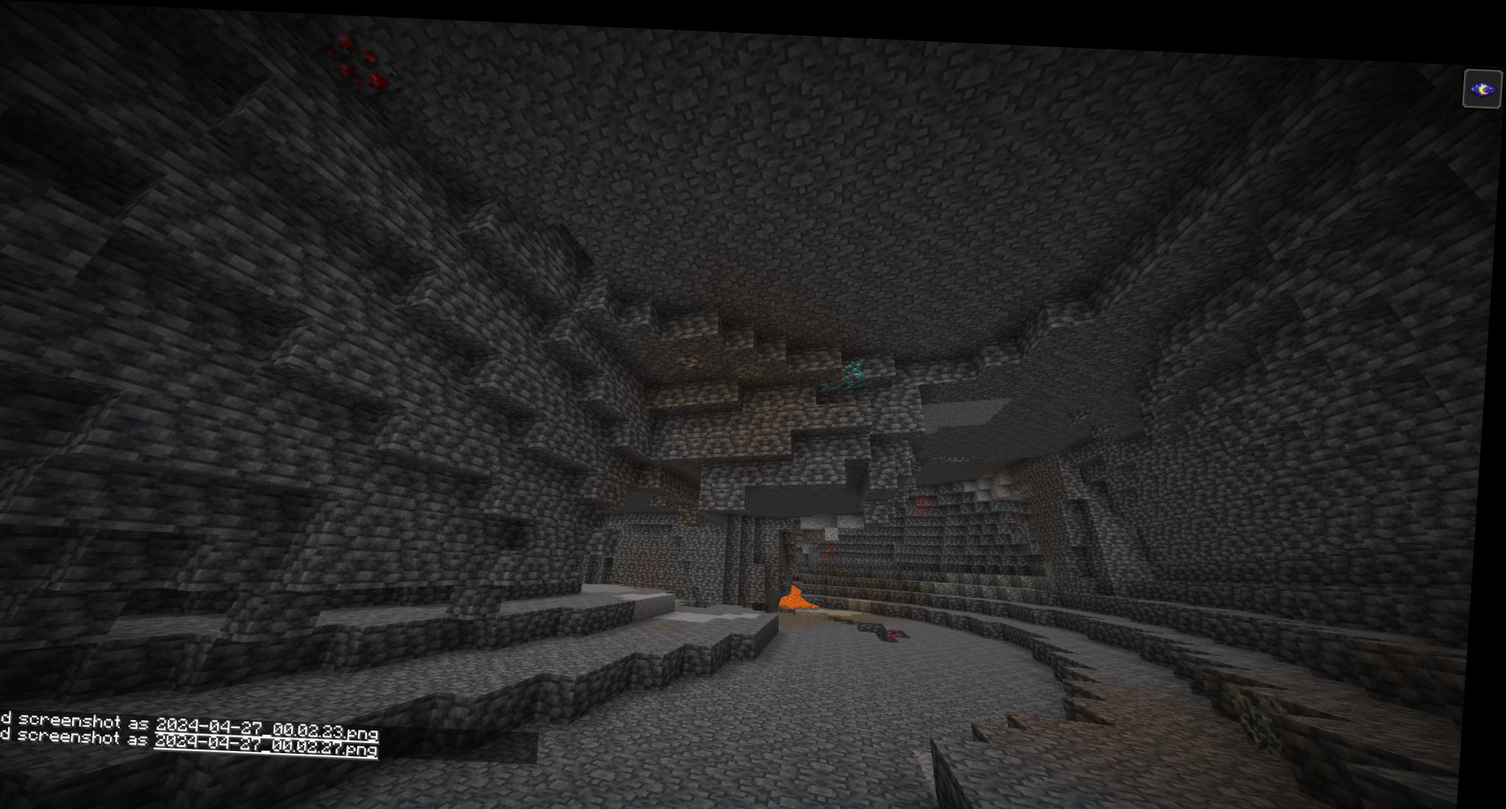diamond ore: (812, 344, 874, 384)
iron ore: (681, 345, 708, 367)
redstone ore: (313, 25, 393, 104)
